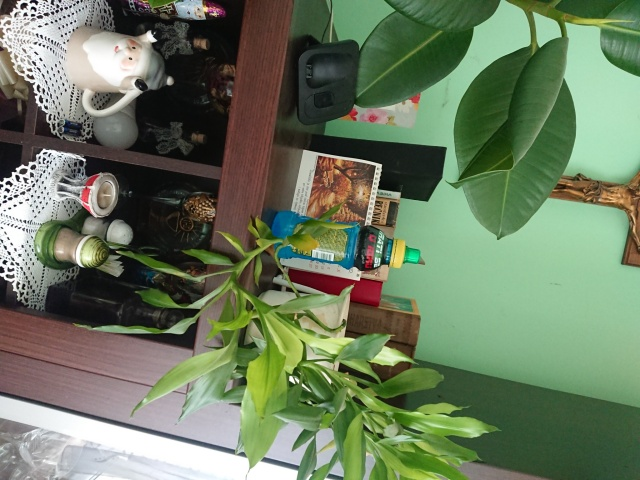Vindi Iso Sport Forest Strawberries 500mL: (267, 208, 421, 272)
